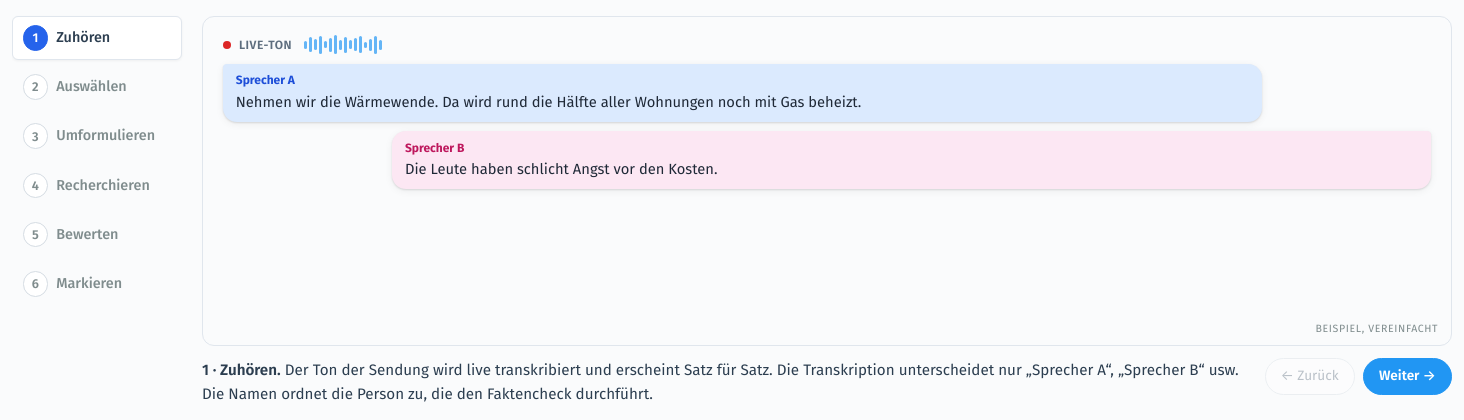
Test: PipelineAnimation › shows the checker's own searches, press only as a lead
This screenshot has width=1464, height=420.
Click the button "4 Recherchieren" at (97, 185), box left=12, top=164, right=182, bottom=207
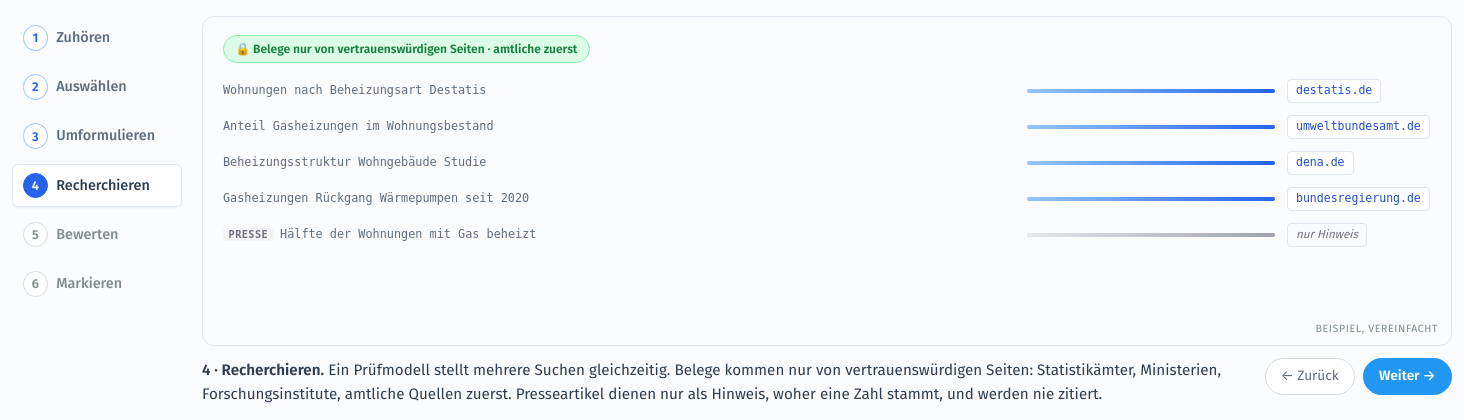
Now the text "destatis.de" is shown, box left=1287, top=79, right=1381, bottom=103
Now the text "nur Hinweis" is shown, box left=1287, top=223, right=1367, bottom=247
